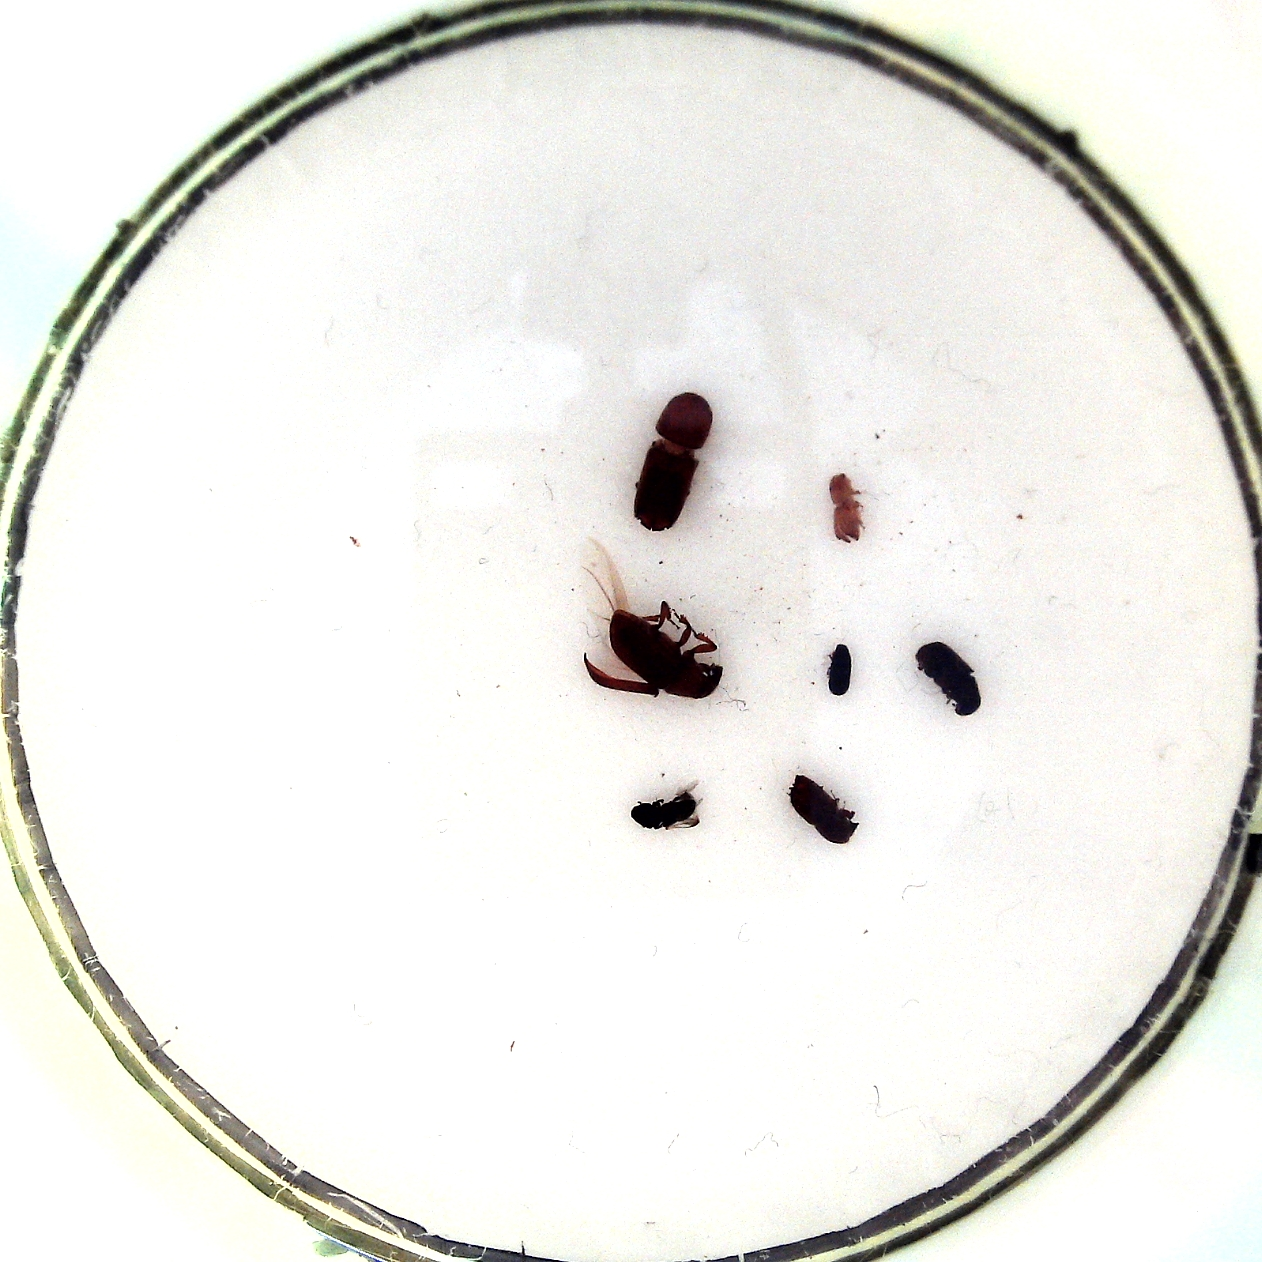Boerner: (629, 387, 719, 540)
Leconte: (566, 530, 730, 707)
Linnaeus: (784, 766, 863, 849)
acuminatus: (824, 466, 868, 545)
armandi: (912, 634, 986, 722)
coleoptera: (625, 774, 711, 836), (822, 640, 860, 700)
